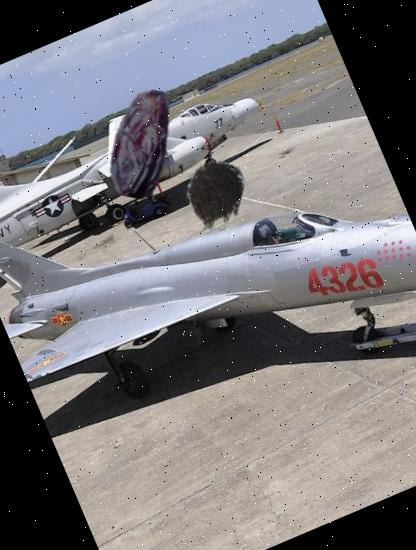Dates: (68, 71, 214, 217)
Rambutan: (166, 149, 259, 242)
